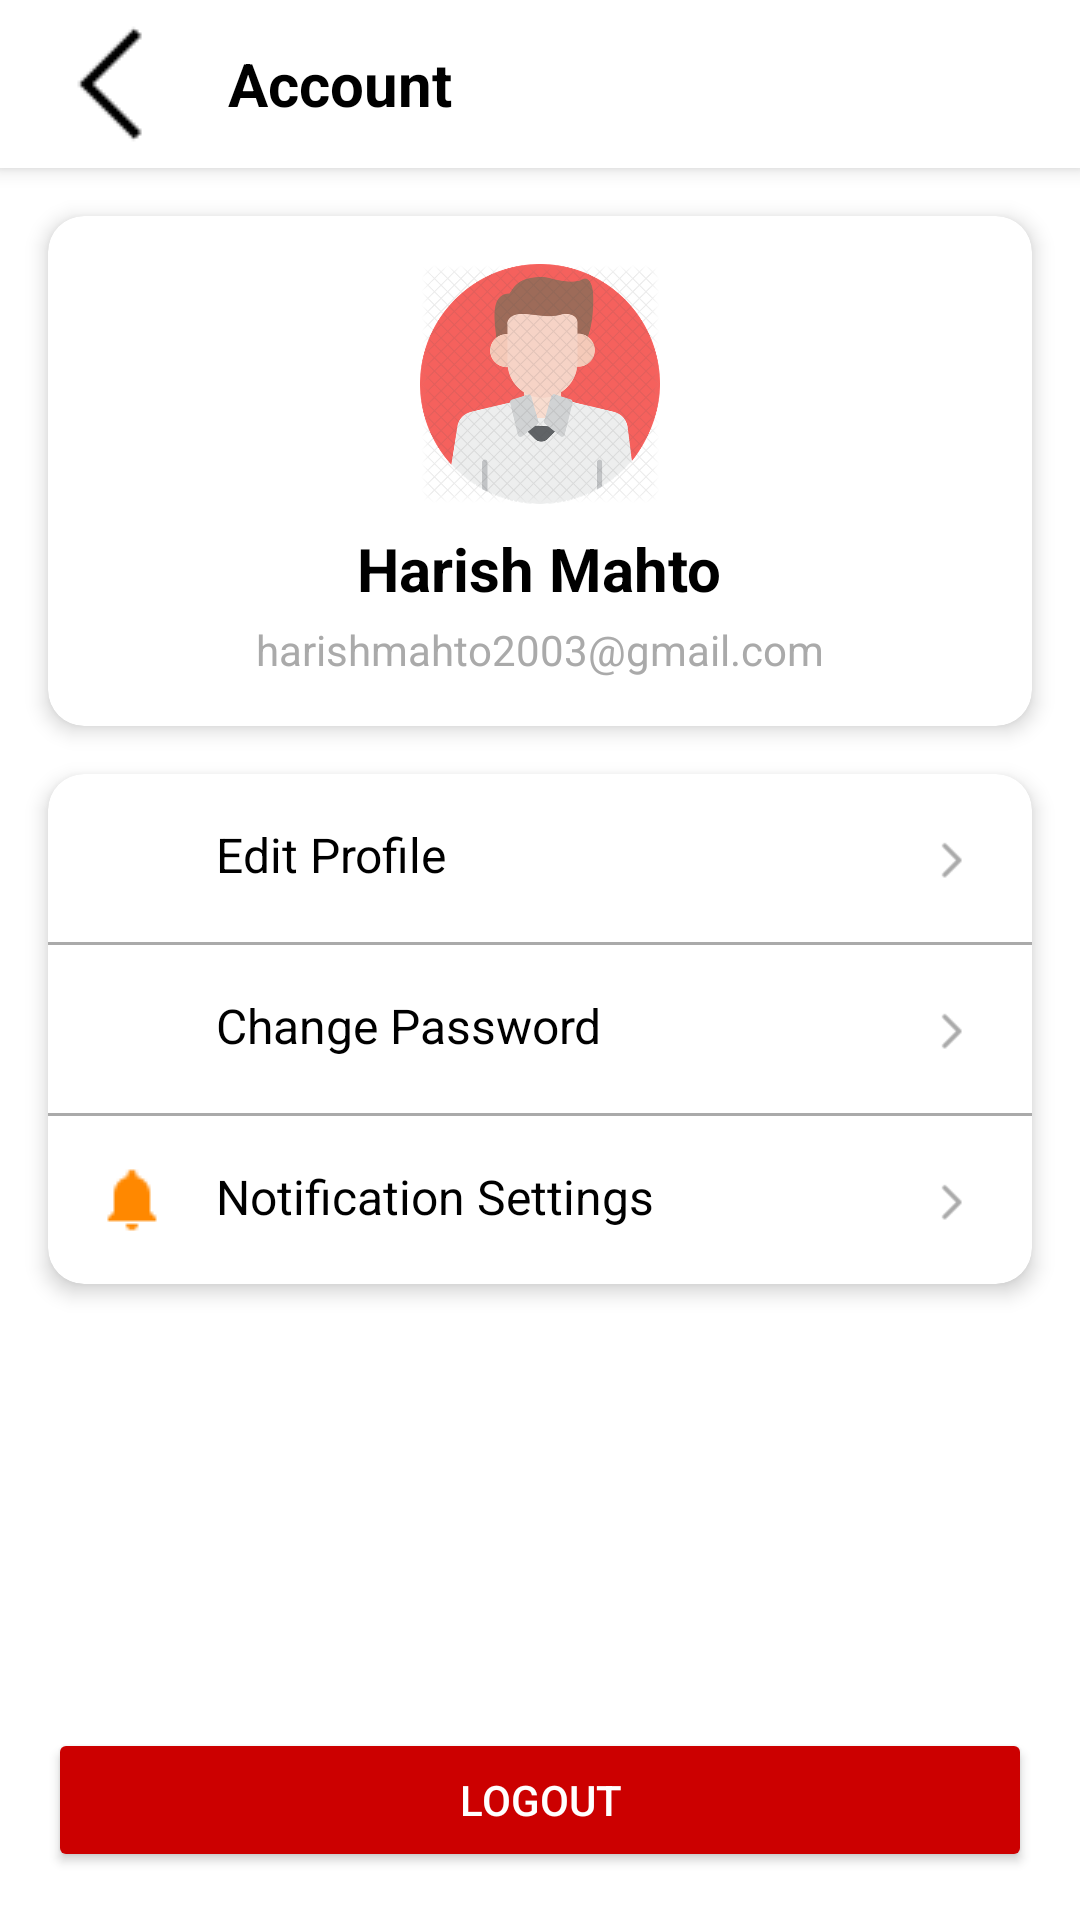

Named icons in this screenshot (1080×1920) and their bounding boxes, (x1, y1, x2, y2):
back: (79, 29, 142, 139)
Profile Picture: (420, 264, 660, 500)
right arrow: (942, 843, 962, 878), (942, 1014, 962, 1049), (942, 1185, 962, 1220)
